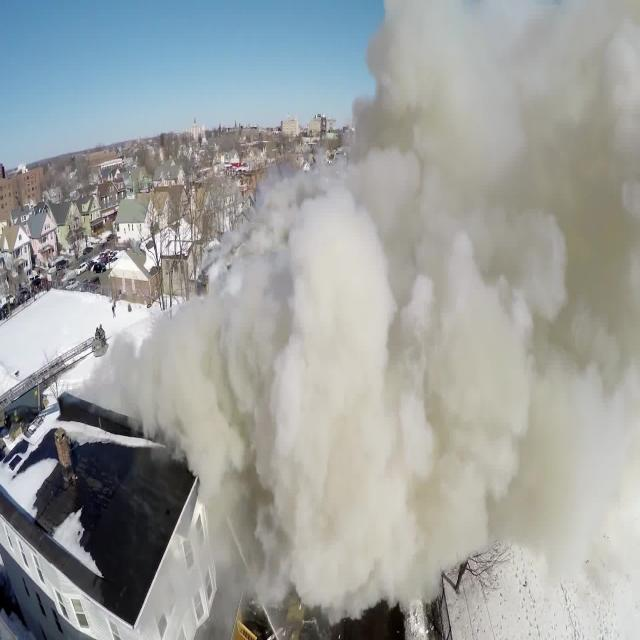Smoke: (64, 0, 640, 616)
